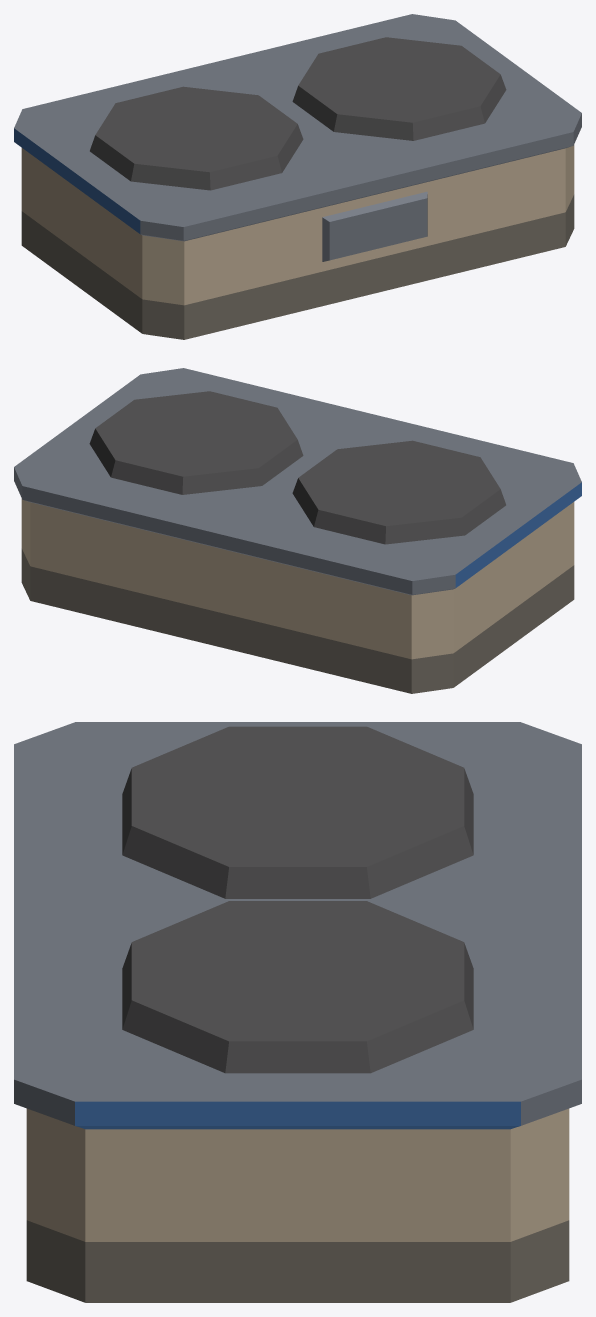
File: SM_Prop_MiniStove_01.obj
The picture shows the model from 3 angles, top to bottom: view 1: azimuth 30°, elevation 25°; view 2: azimuth 150°, elevation 25°; view 3: azimuth 270°, elevation 25°; orthographic projection. The views are drawn at different scales.
Visible parts, largest first — view 1: SM_Prop_MiniStove_01_0; view 2: SM_Prop_MiniStove_01_0; view 3: SM_Prop_MiniStove_01_0.
Boxes of the visible parts, x1=… form: SM_Prop_MiniStove_01_0: x1=14, y1=14, x2=581, y2=339; SM_Prop_MiniStove_01_0: x1=14, y1=368, x2=581, y2=693; SM_Prop_MiniStove_01_0: x1=14, y1=722, x2=581, y2=1302.
Bounding box in the file's own units: 0.5087 × 0.1457 × 0.3217.
Materials: 1 (1 with a texture image).
